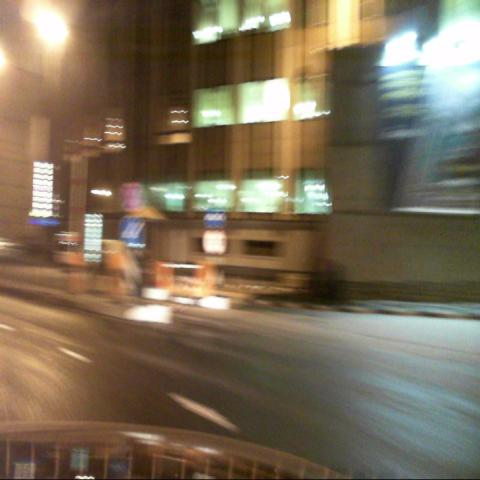4_2_2: (131, 216, 147, 248)
